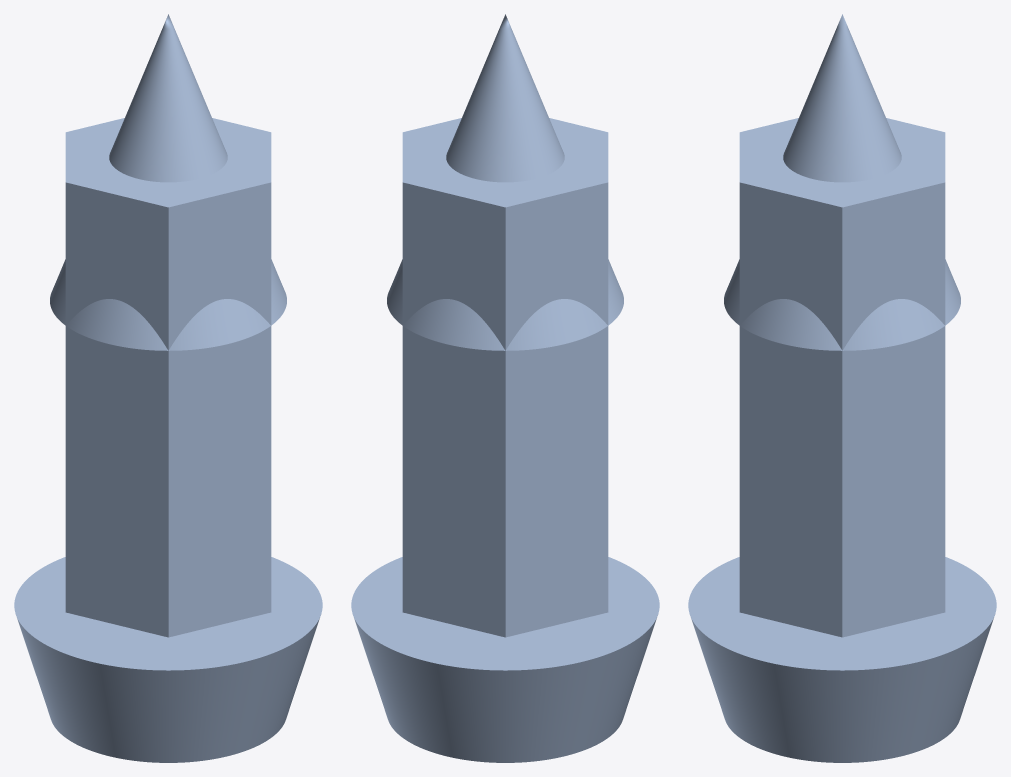
File: crystal.glb
3 views of the same model, side by side, from view 1: azimuth 30°, elevation 25°; view 2: azimuth 150°, elevation 25°; view 3: azimuth 270°, elevation 25° (orthographic).
Bounding box in the file's own units: 0.0156 × 0.039 × 0.0156.
